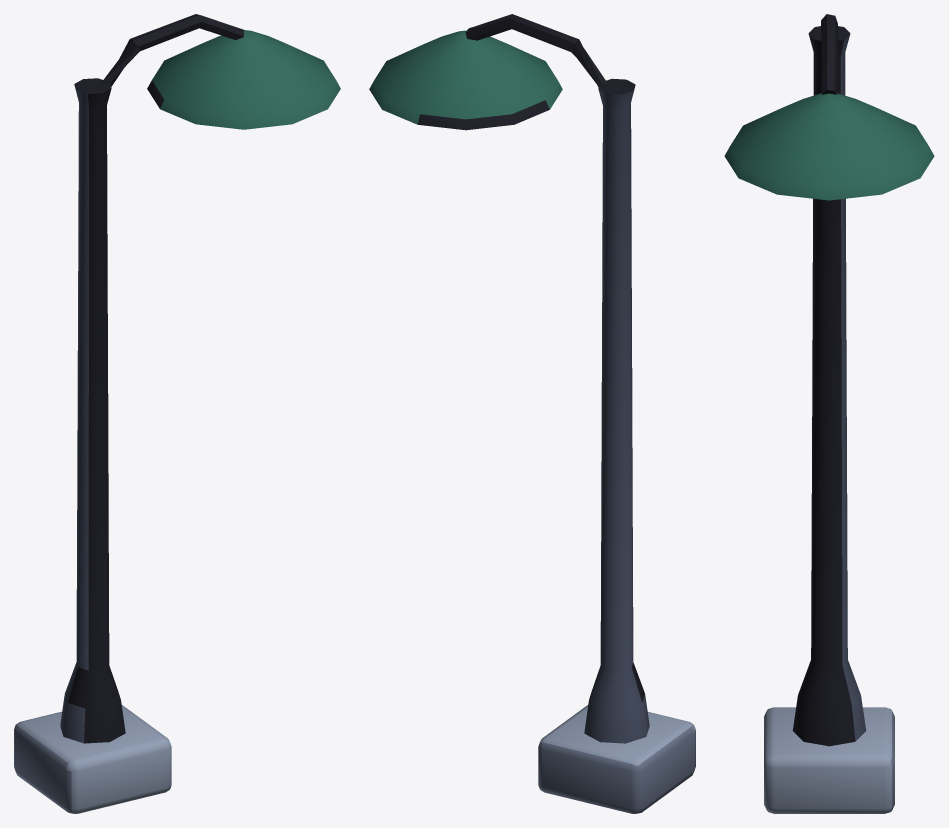
Rendered from FactoryLamp.fbx.
The picture shows the model from 3 angles, left to right: view 1: azimuth 30°, elevation 25°; view 2: azimuth 150°, elevation 25°; view 3: azimuth 270°, elevation 25°; orthographic projection. The views are drawn at different scales.
Visible parts, largest first — view 1: FactoryLamp; view 2: FactoryLamp; view 3: FactoryLamp.
Part boxes in pixels (x1,y1,x2,y2): FactoryLamp: [14, 14, 340, 813]; FactoryLamp: [369, 14, 695, 813]; FactoryLamp: [724, 14, 934, 813].
Size of the model in its own units: 1.37 by 3.39 by 0.8.
Materials: 2 (2 with a texture image).
